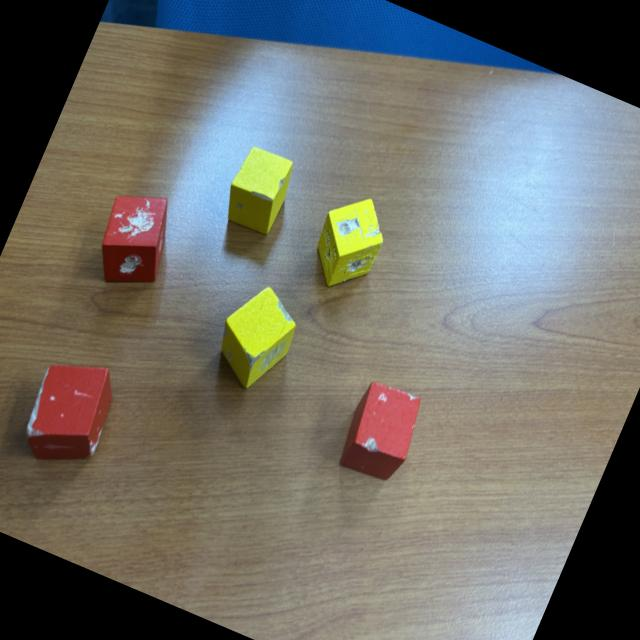broken: (12, 344, 128, 478), (203, 275, 309, 399), (84, 180, 185, 300), (300, 184, 397, 300), (332, 374, 429, 488), (217, 142, 300, 238)
